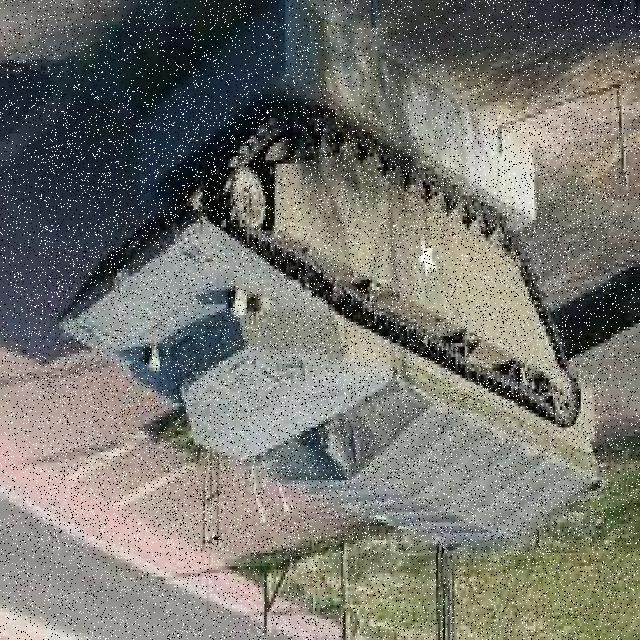MIL_MBT: (40, 111, 610, 552)
